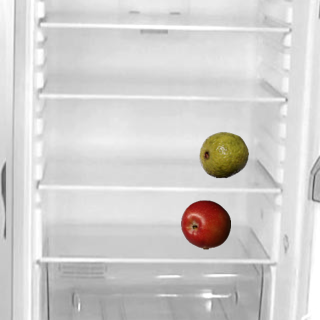Apple Braeburn: (180, 199, 230, 249)
Guava: (198, 129, 248, 179)
